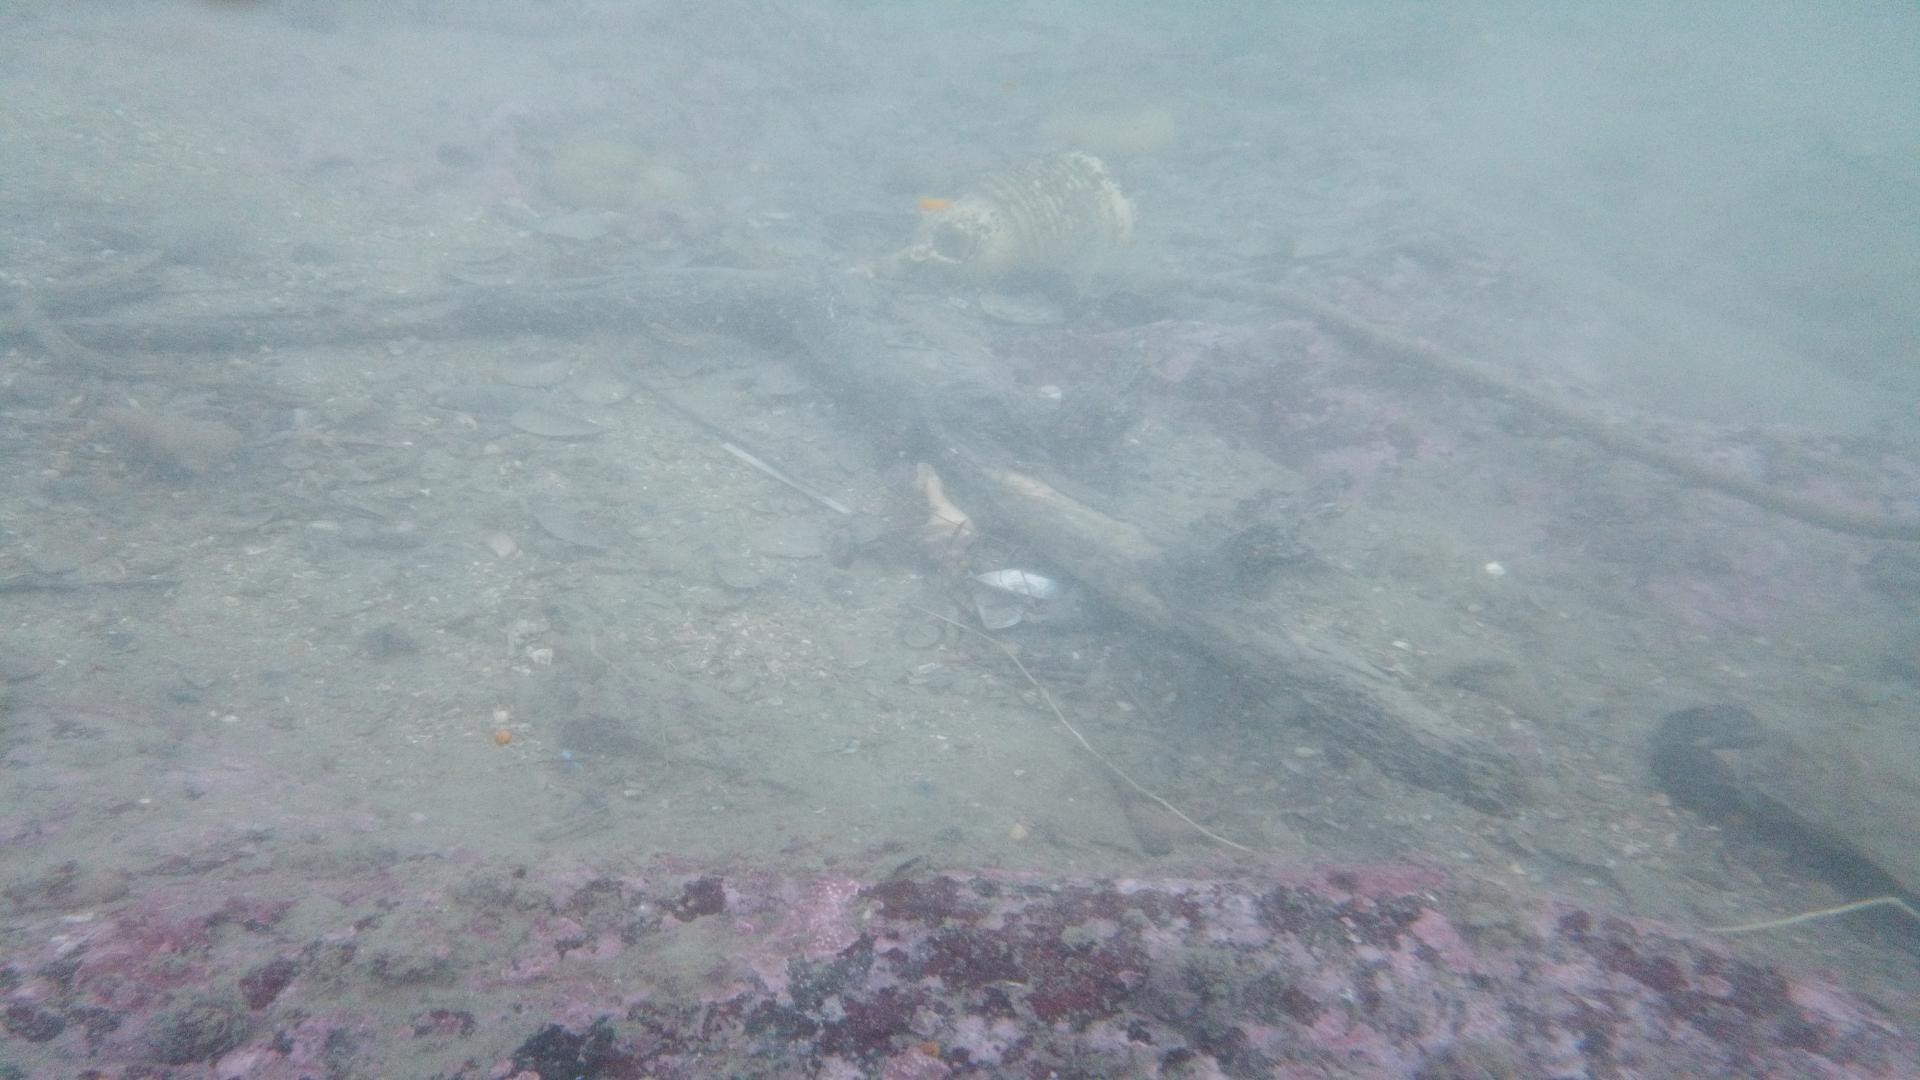rope: (1153, 276, 1920, 547)
wood: (63, 264, 1528, 822)
